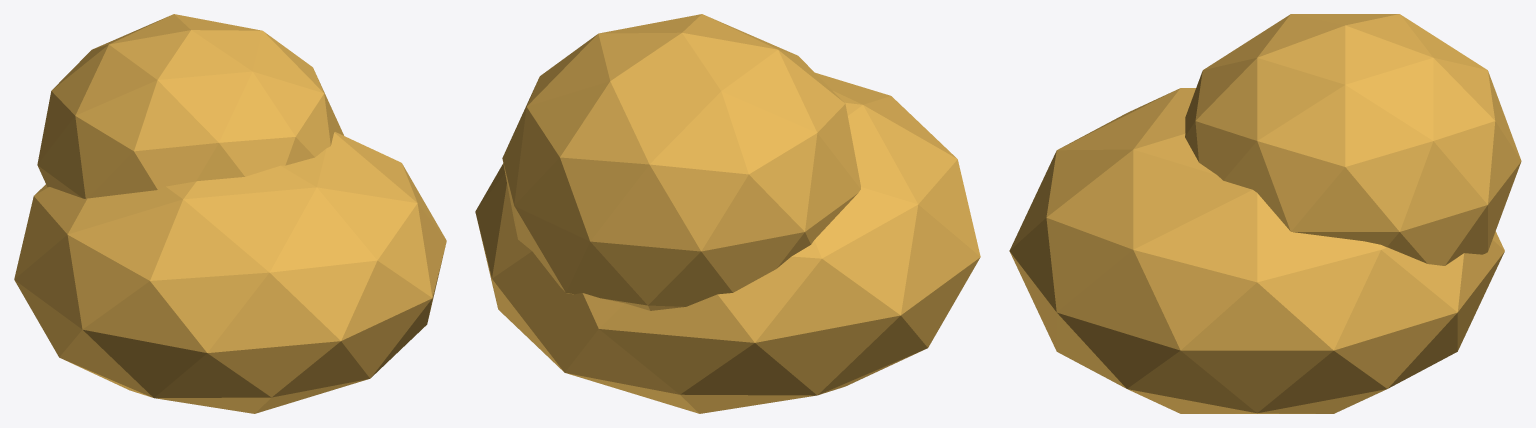
File: beanbag.glb
The picture shows the model from 3 angles, left to right: view 1: azimuth 30°, elevation 25°; view 2: azimuth 150°, elevation 25°; view 3: azimuth 270°, elevation 25°; orthographic projection. The views are drawn at different scales.
Parts seen in each view (by area): view 1: beanbag; view 2: beanbag; view 3: beanbag.
Boxes of the visible parts, x1,y1,x2,y2 form: beanbag: [14, 14, 446, 413]; beanbag: [475, 14, 980, 413]; beanbag: [1009, 14, 1521, 413].
Bounding box in the file's own units: 0.856 × 0.731 × 0.93.
